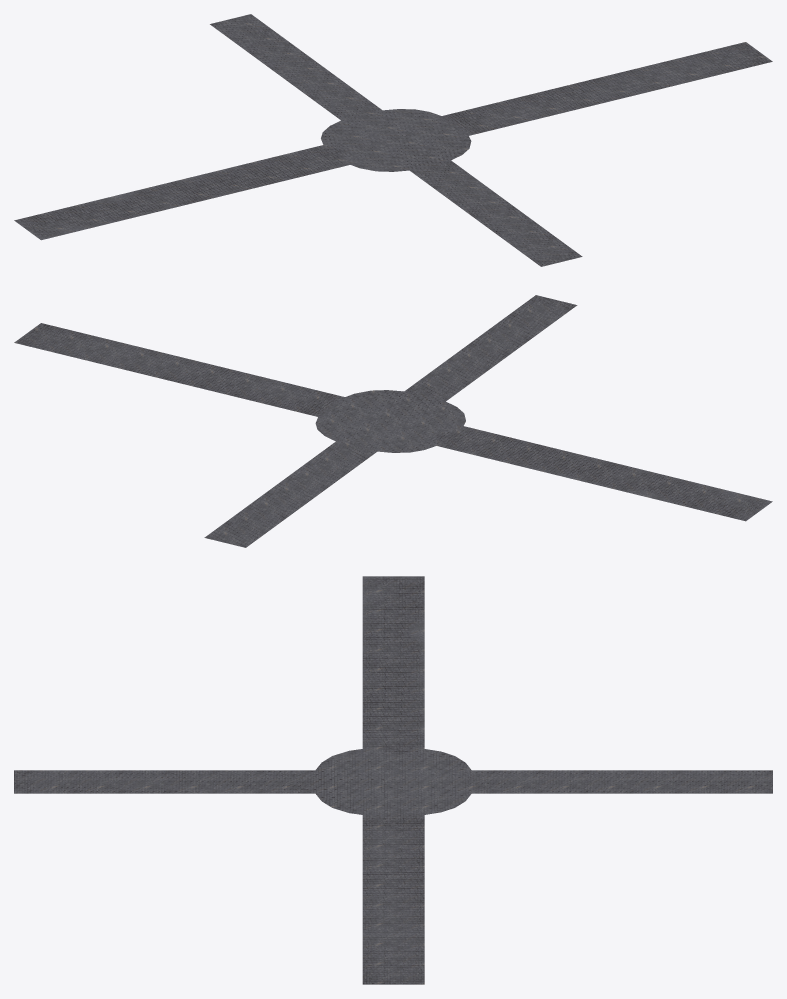
Rendered from Cross_Stonepavement_map.fbx.
The picture shows the model from 3 angles, top to bottom: view 1: azimuth 30°, elevation 25°; view 2: azimuth 150°, elevation 25°; view 3: azimuth 270°, elevation 25°; orthographic projection. The views are drawn at different scales.
Visible parts, largest first — view 1: Cross_Stonepavement; view 2: Cross_Stonepavement; view 3: Cross_Stonepavement.
Part boxes in pixels (box(x1,y1,x2,y2)): Cross_Stonepavement: box(14, 14, 772, 266); Cross_Stonepavement: box(14, 295, 772, 547); Cross_Stonepavement: box(14, 576, 772, 984).
Size of the model in its own units: 8100 by 0.00704 by 6358.
1 material, 1 textured.
